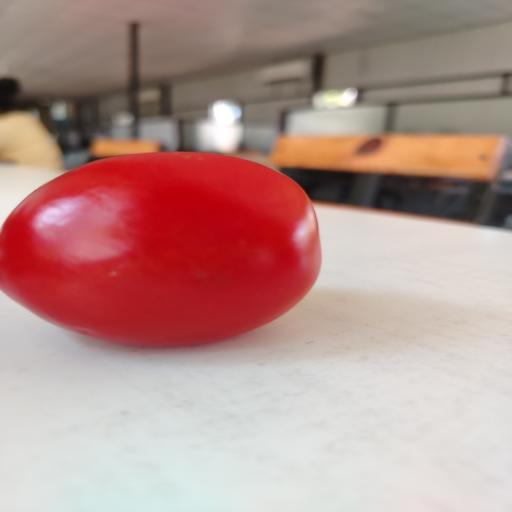overipe: (0, 152, 321, 346)
